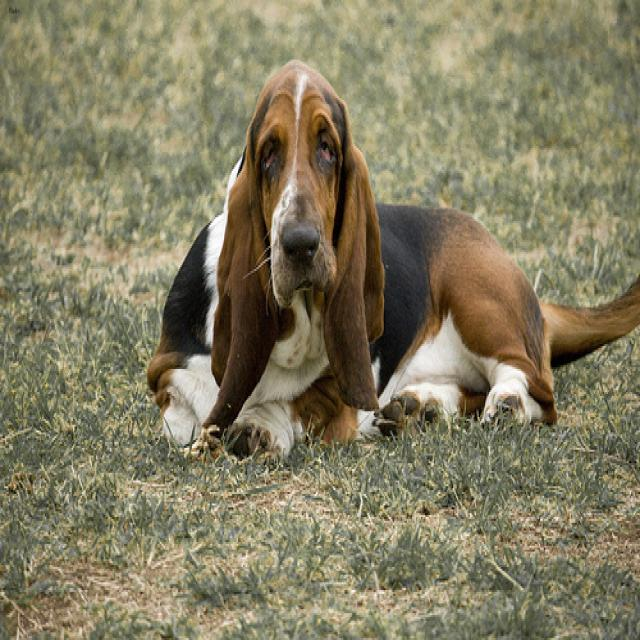dog-basset_hound: (133, 44, 637, 467)
